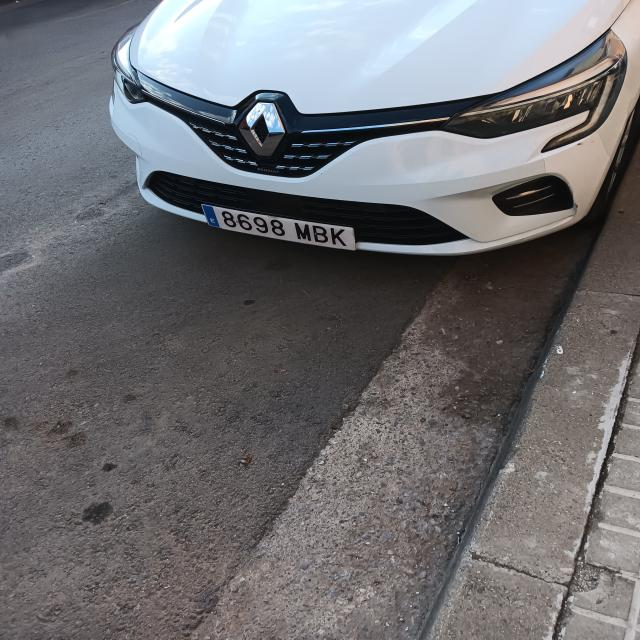license_plate-34Td: (202, 205, 356, 250)
